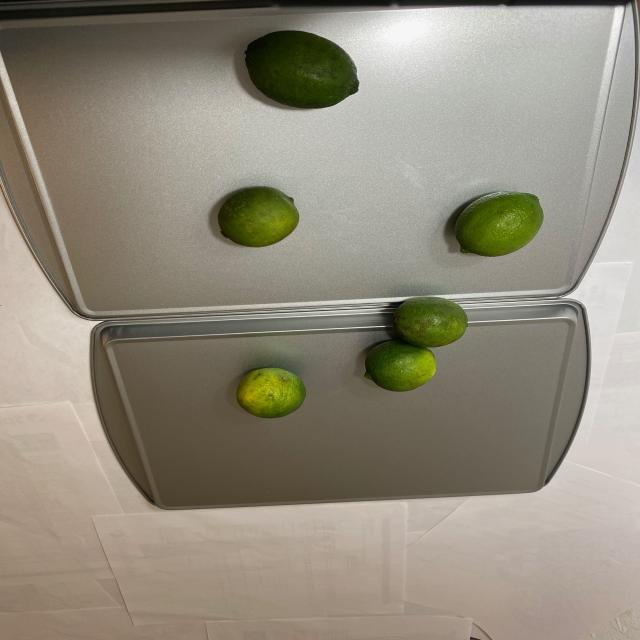lemon: (231, 292, 471, 418), (242, 27, 377, 109), (451, 182, 545, 265), (216, 186, 300, 247)
